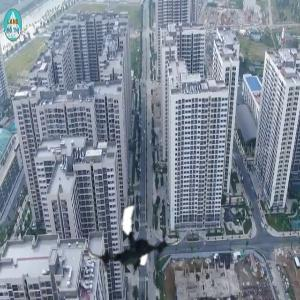drone: (90, 200, 181, 291)
